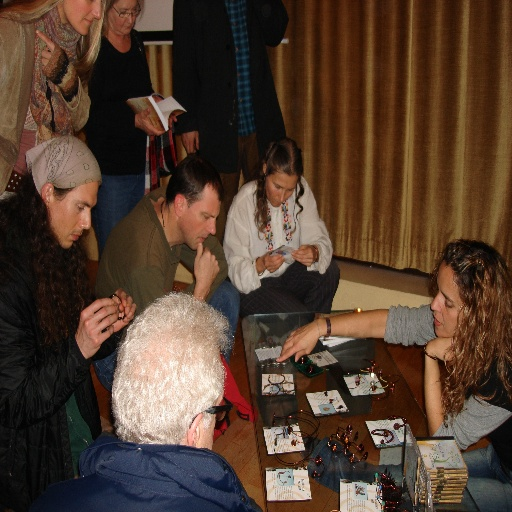hand: (72, 302, 118, 356), (274, 319, 320, 363), (192, 240, 221, 289), (110, 287, 136, 332), (428, 336, 464, 365), (134, 107, 164, 140), (35, 28, 54, 73), (262, 248, 286, 274), (290, 244, 317, 267), (180, 129, 199, 155), (170, 112, 179, 128)
